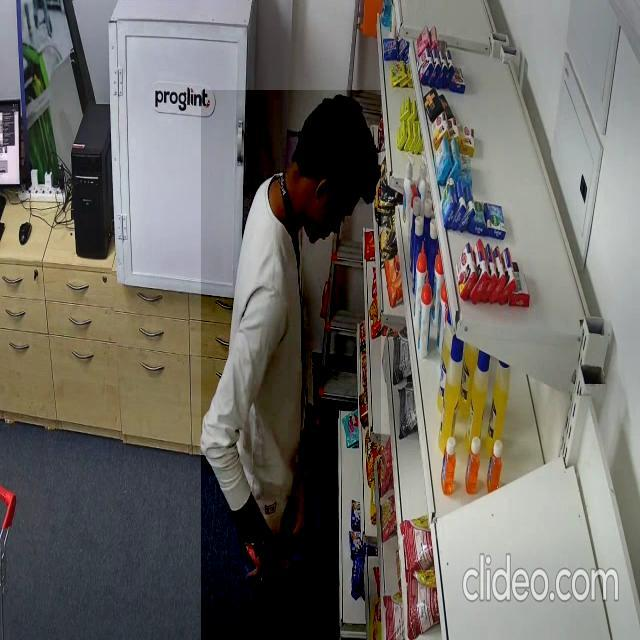Shoplifting: (201, 90, 381, 640)
